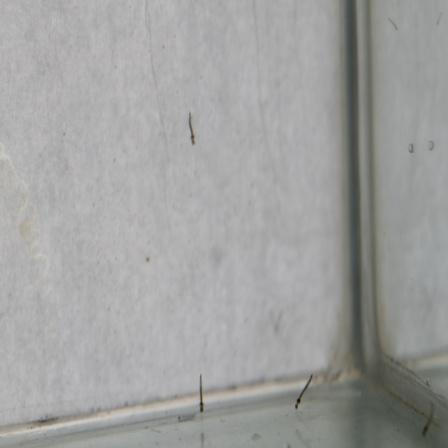Jentik-Nyamuk: (290, 371, 317, 413), (194, 369, 211, 417), (183, 109, 199, 150)
